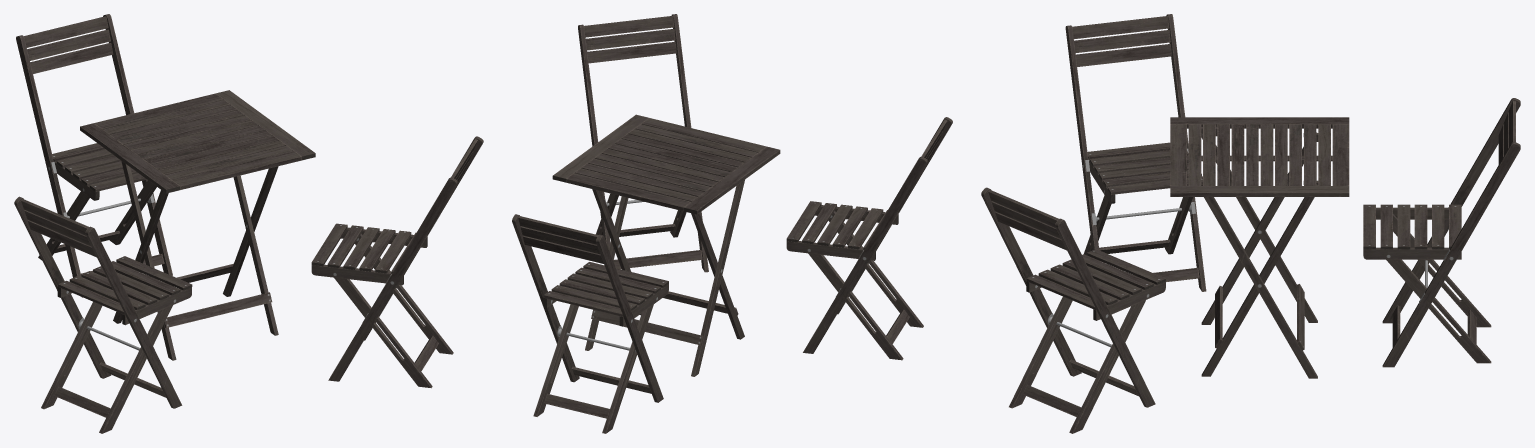
3 renders of one model, left to right at view 1: azimuth 30°, elevation 25°; view 2: azimuth 150°, elevation 25°; view 3: azimuth 270°, elevation 25°, orthographic. The views are drawn at different scales.
Parts seen in each view (by area): view 1: table__0, chair003__0, chair1__0, chair2__0; view 2: table__0, chair1__0, chair003__0, chair2__0; view 3: table__0, chair2__0, chair1__0, chair003__0.
Boxes of the visible parts, bbox=[...] form: table__0: bbox=[80, 90, 315, 360]; chair003__0: bbox=[14, 196, 192, 433]; chair1__0: bbox=[16, 14, 172, 297]; chair2__0: bbox=[311, 136, 483, 388]; table__0: bbox=[552, 114, 780, 376]; chair1__0: bbox=[512, 214, 668, 433]; chair003__0: bbox=[786, 117, 952, 360]; chair2__0: bbox=[578, 14, 708, 272]; table__0: bbox=[1170, 117, 1349, 378]; chair2__0: bbox=[981, 187, 1165, 433]; chair1__0: bbox=[1363, 98, 1520, 367]; chair003__0: bbox=[1065, 14, 1206, 291].
Size of the model in its own units: 1.67 by 0.826 by 1.81.
1 material, 1 textured.
